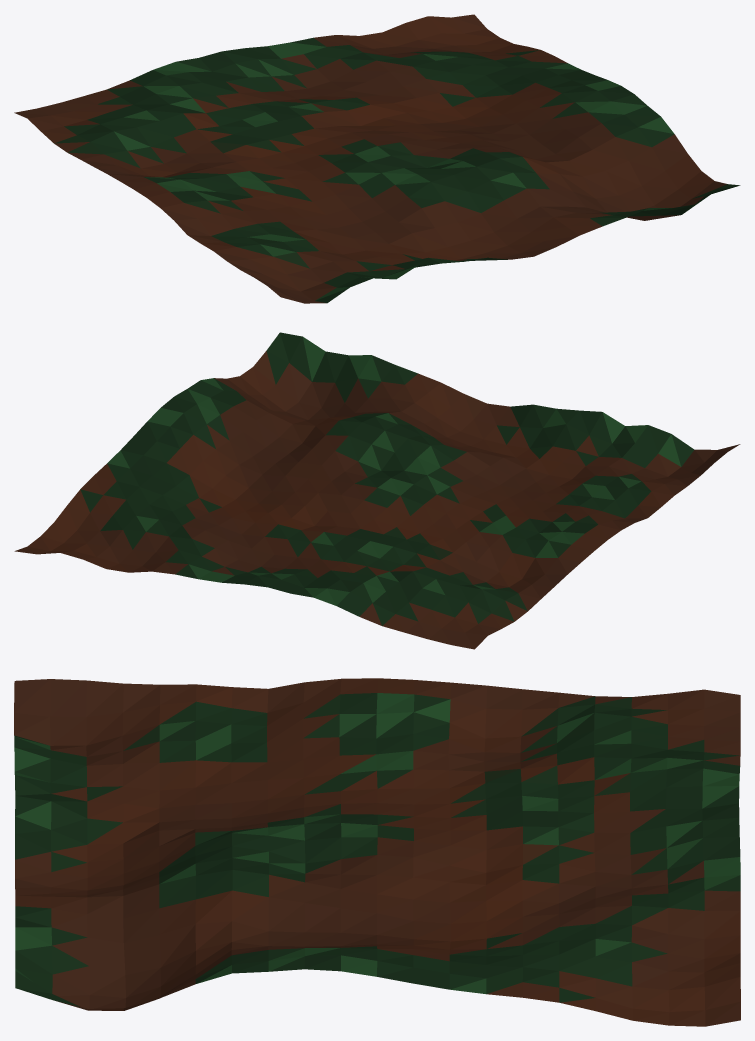
Rendered from Swamp Land.fbx.
3 renders of one model, top to bottom at view 1: azimuth 30°, elevation 25°; view 2: azimuth 150°, elevation 25°; view 3: azimuth 270°, elevation 25°, orthographic. The views are drawn at different scales.
Parts seen in each view (by area): view 1: pPlane16; view 2: pPlane16; view 3: pPlane16.
Part boxes in pixels (<box>): pPlane16: <box>14,14,740,303</box>; pPlane16: <box>14,332,740,649</box>; pPlane16: <box>14,678,740,1026</box>.
Size of the model in its own units: 241 by 27.27 by 241.
